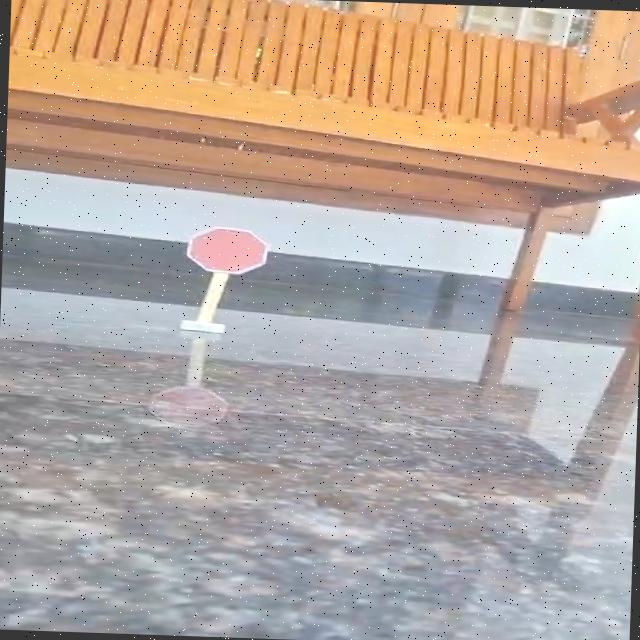Stop: (172, 216, 281, 285)
